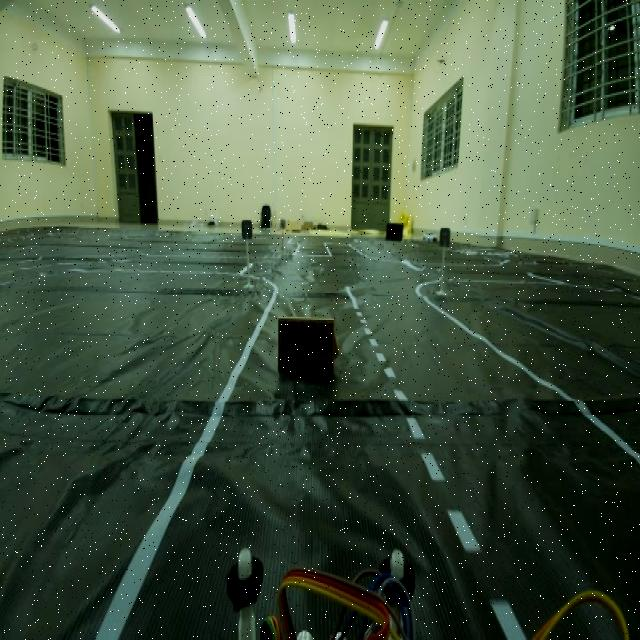roadblock: (274, 305, 344, 384)
